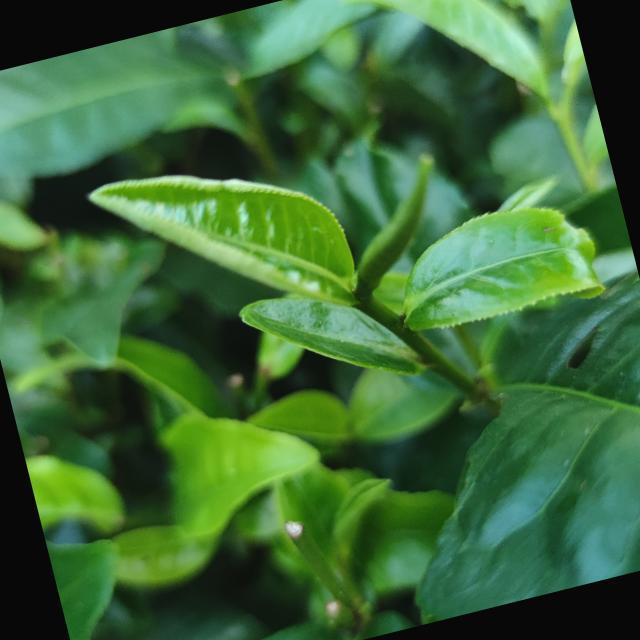Stem: (360, 295, 388, 322)
